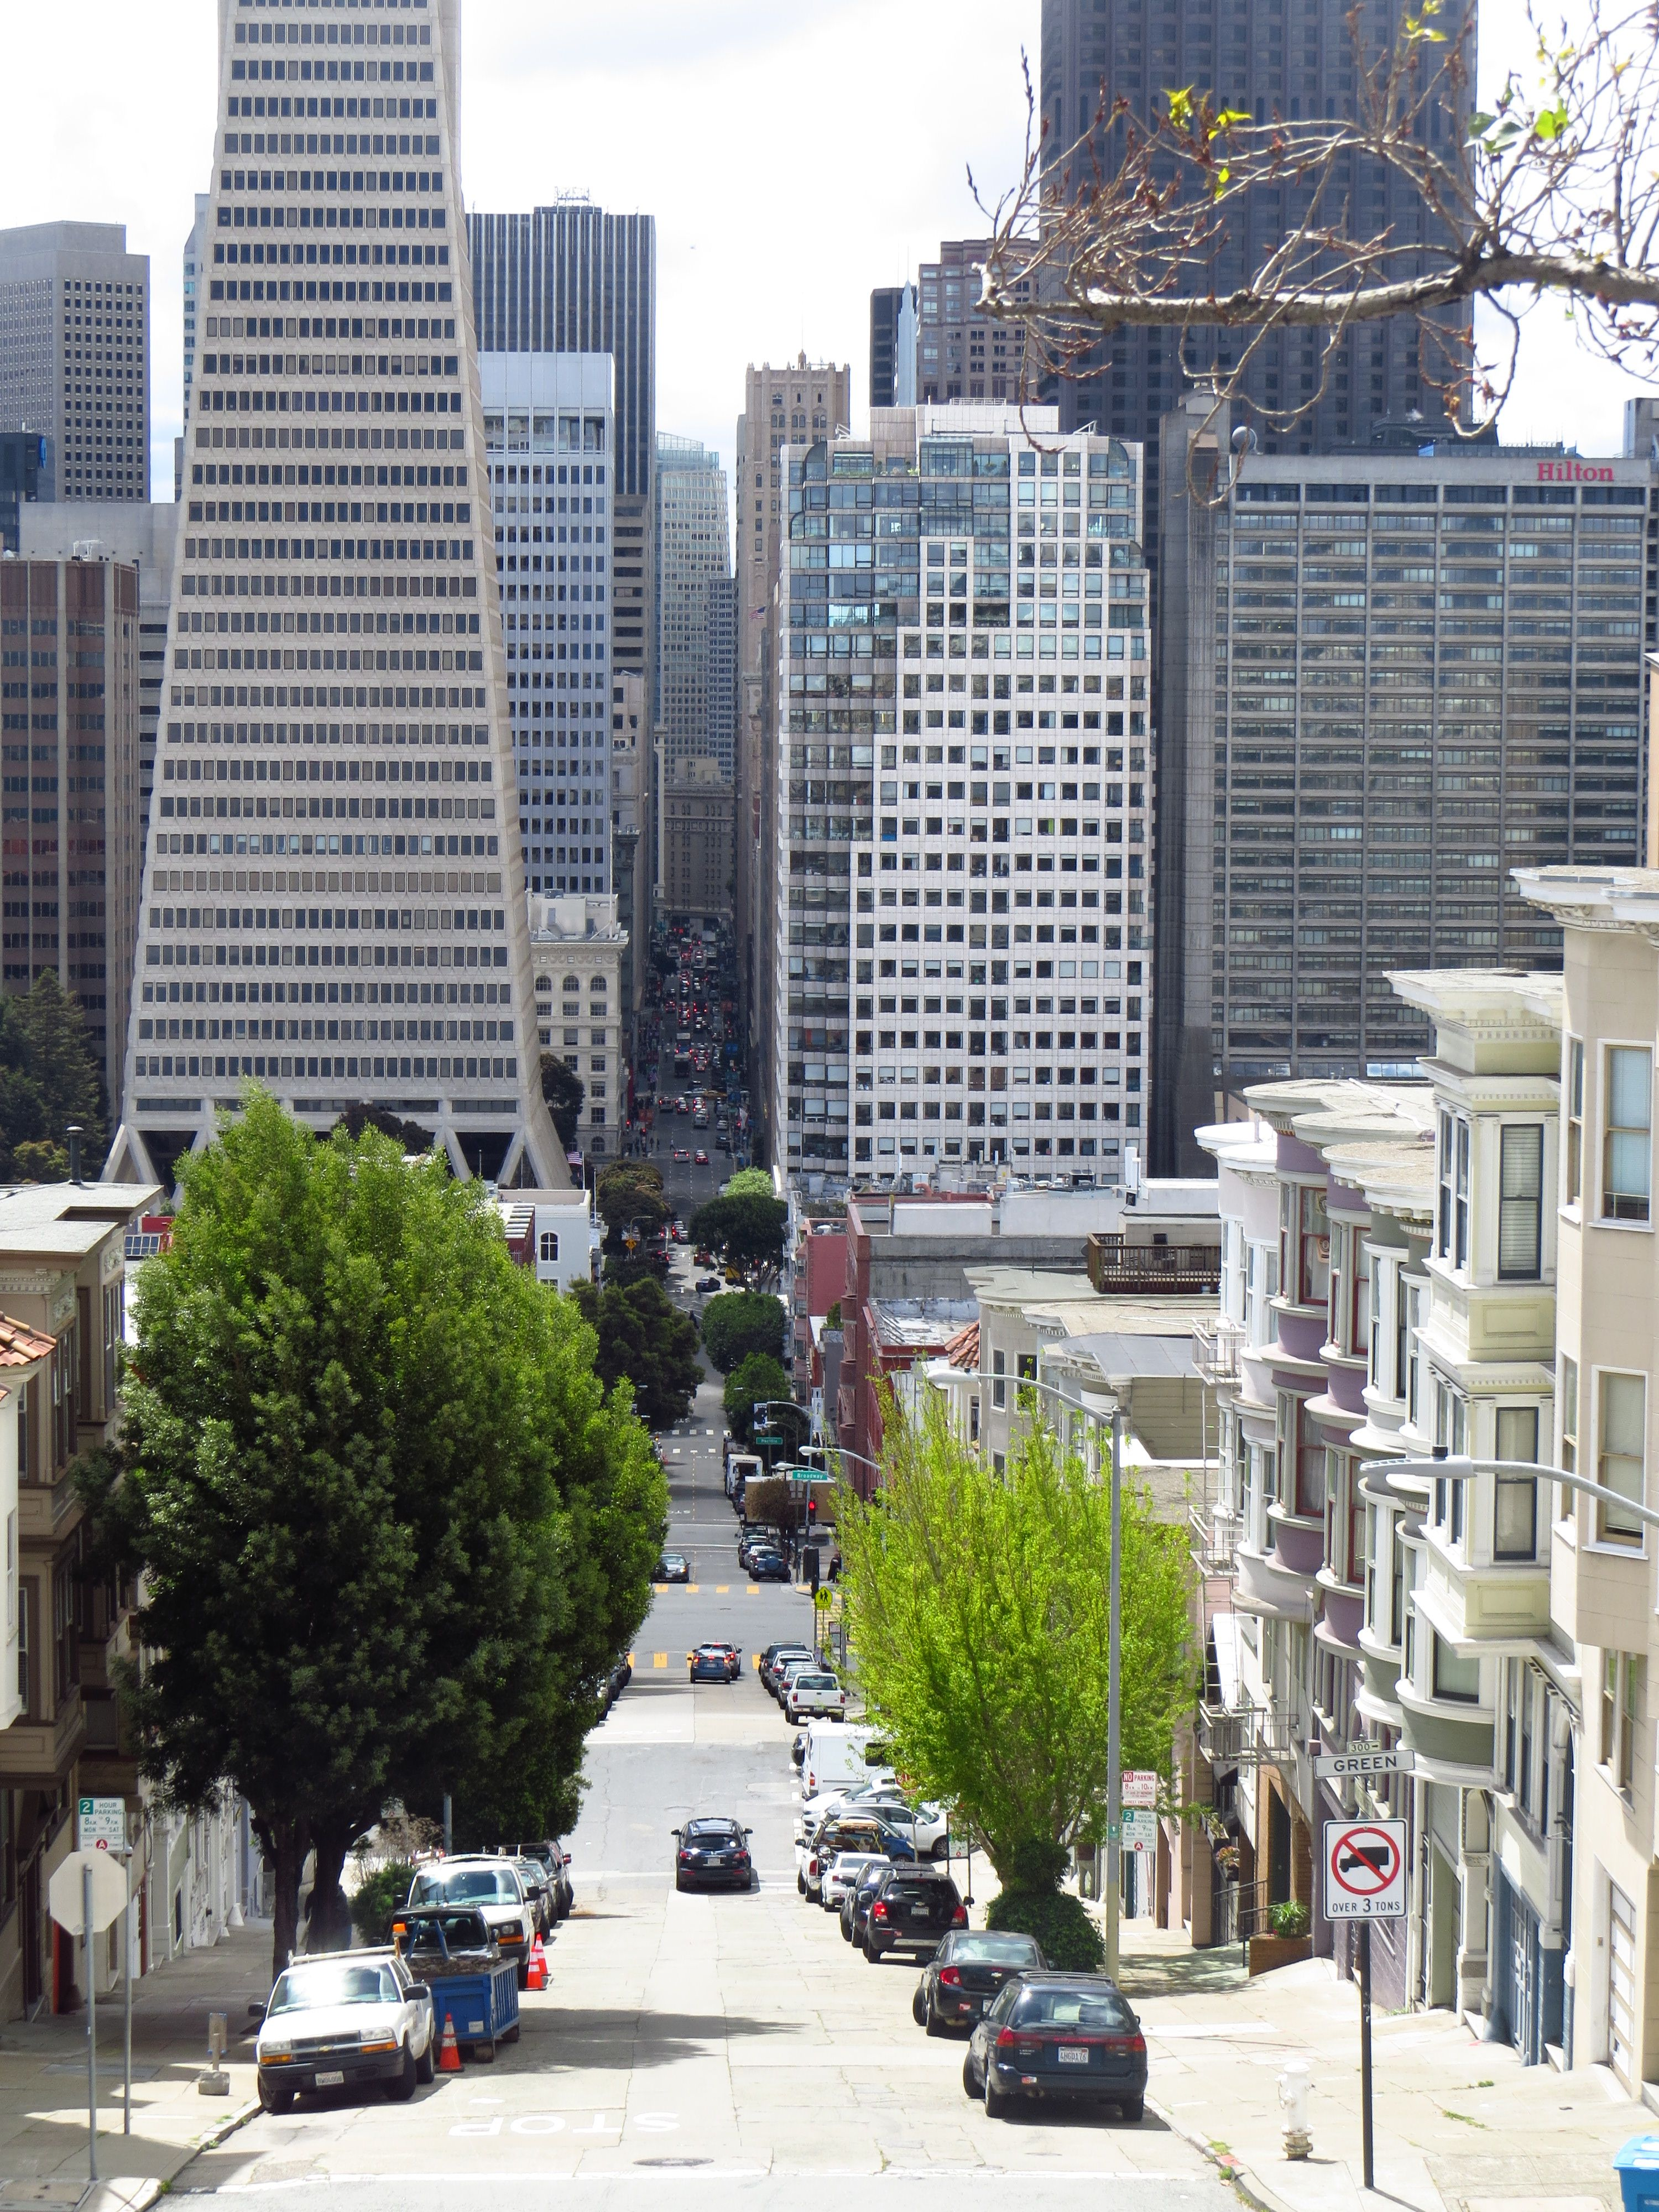tree: (68, 1089, 671, 1982), (823, 1367, 1201, 1968)
